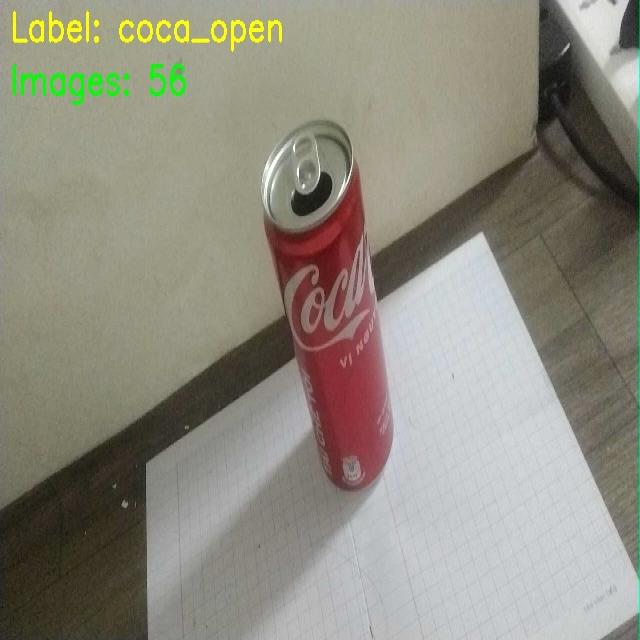Coca_open: (249, 124, 410, 494)
